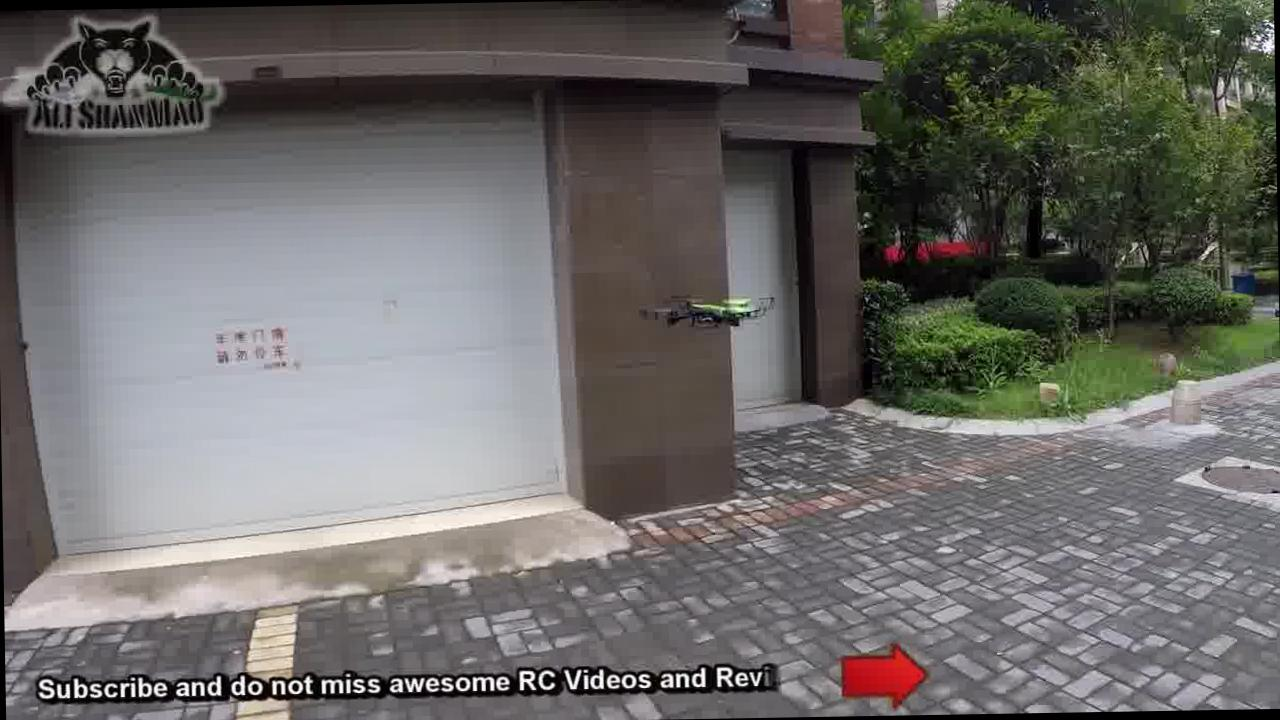drone: (638, 274, 781, 335)
